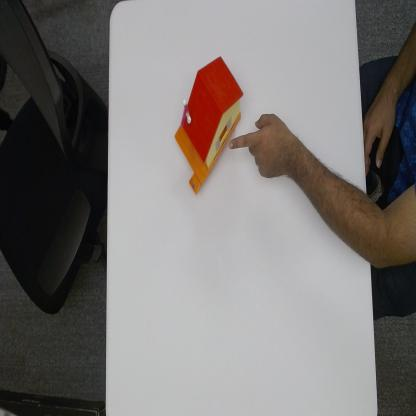Arm: (297, 140, 367, 262)
Hand: (232, 117, 295, 180)
House: (178, 54, 242, 191)
